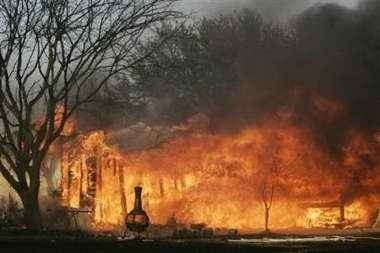fire: (55, 101, 380, 236)
